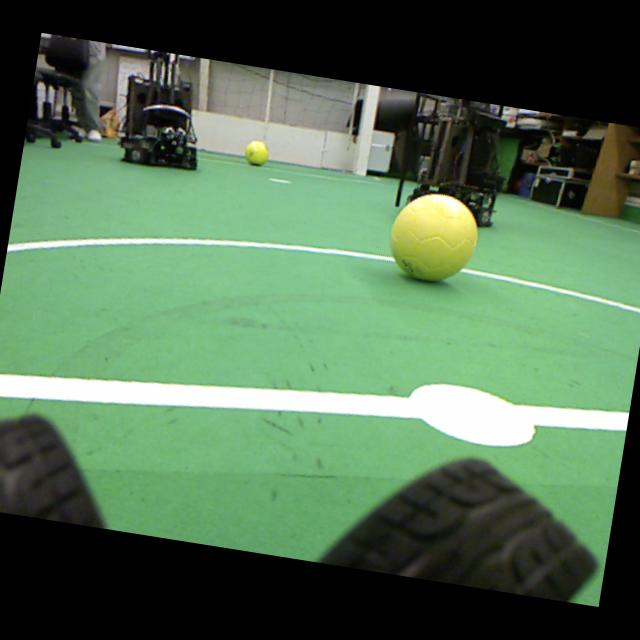ball: (390, 195, 478, 281), (246, 141, 269, 166)
goal: (356, 85, 380, 176)
robot: (395, 93, 504, 227), (117, 50, 198, 171)
